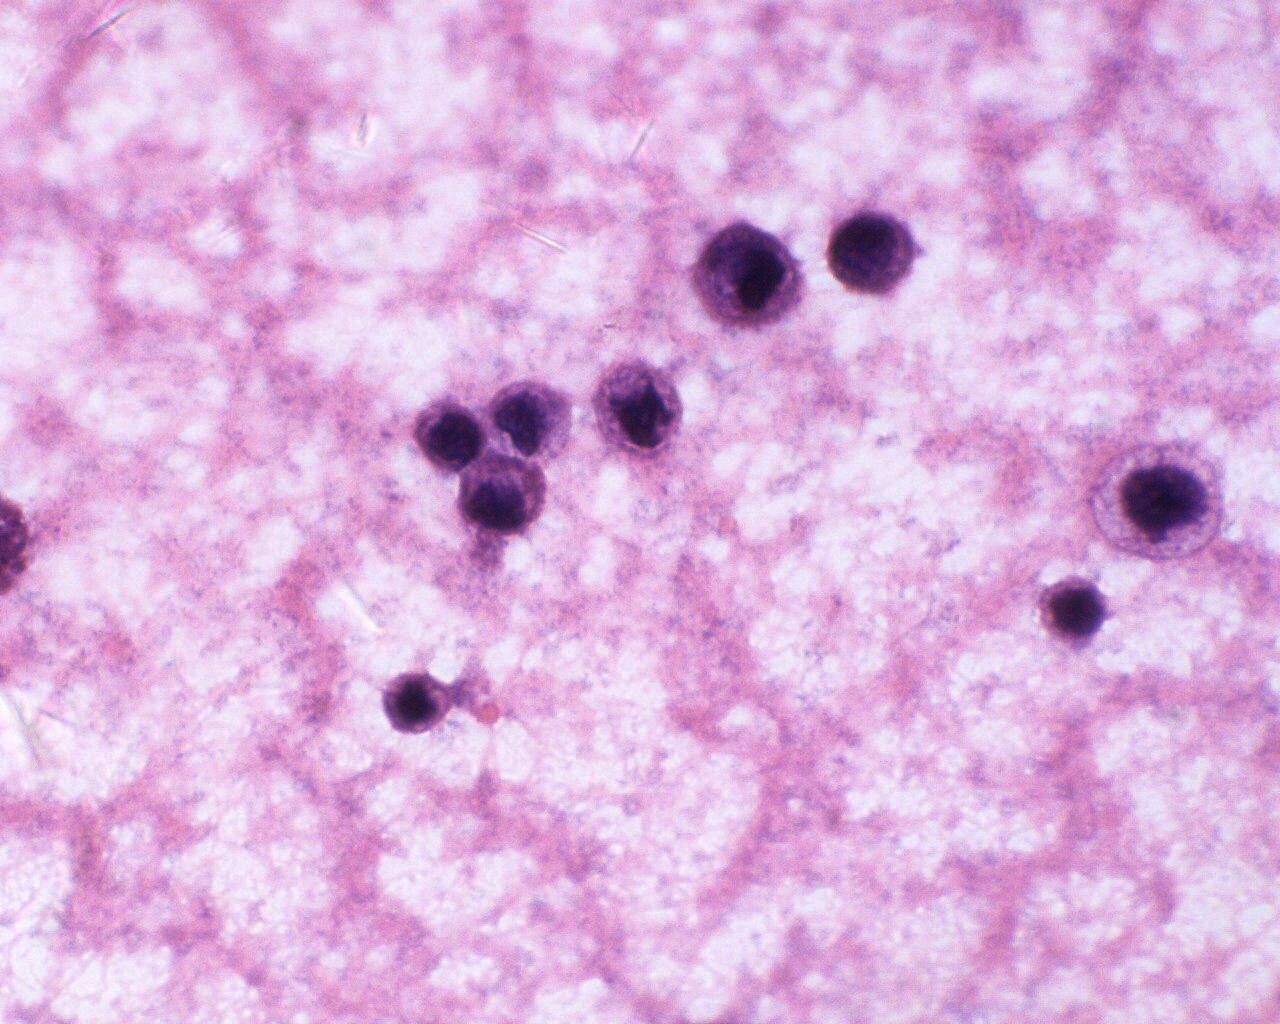ab: (1091, 441, 1230, 562), (688, 219, 804, 328), (590, 359, 689, 460), (822, 205, 920, 298), (455, 450, 549, 533), (488, 373, 575, 462), (410, 398, 487, 478), (378, 667, 455, 736), (1040, 572, 1111, 643)
